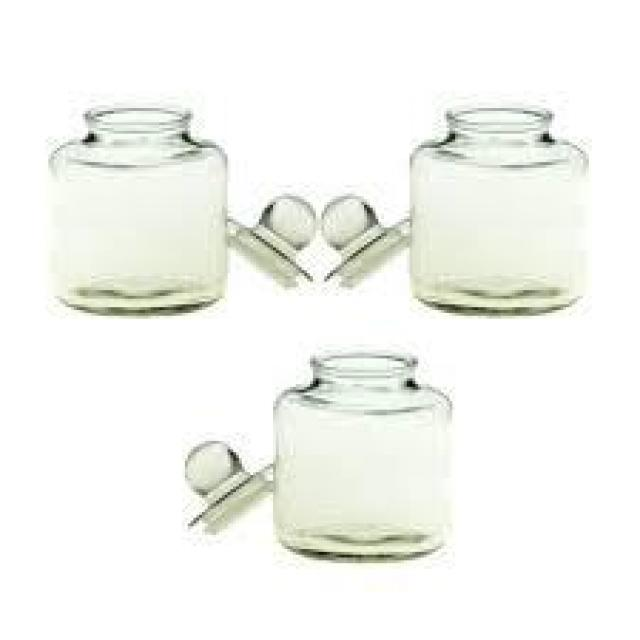non-organic waste: (44, 98, 229, 326)
